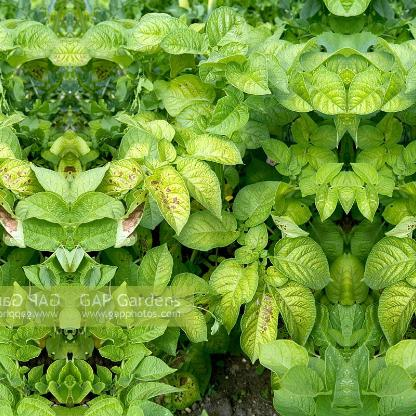Early-Blight: (96, 156, 198, 246), (147, 349, 209, 415), (0, 155, 42, 246), (247, 211, 316, 261), (246, 285, 286, 347), (160, 73, 216, 114), (376, 211, 416, 261), (91, 57, 117, 83), (21, 57, 47, 83), (406, 285, 416, 347)
